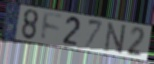2: (60, 15, 83, 50), (126, 26, 147, 58)
7: (84, 18, 105, 51)
8: (21, 8, 40, 41)
F: (40, 11, 64, 42)
N: (103, 21, 128, 55)
